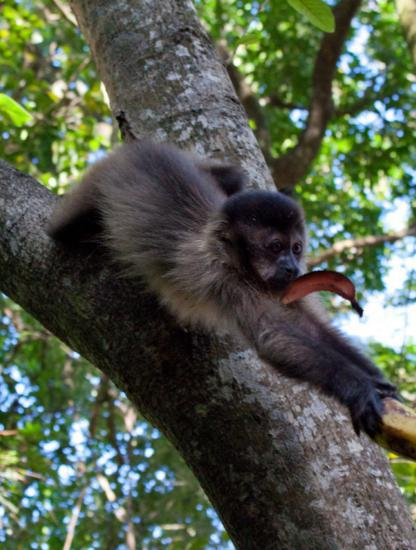Banana: (280, 248, 367, 335)
